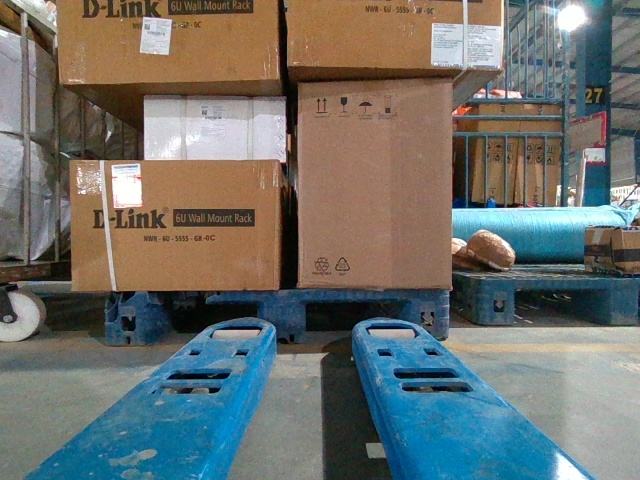block: (259, 292, 305, 349), (108, 289, 153, 346), (409, 289, 449, 341), (479, 274, 516, 326), (612, 279, 639, 326)
front: (109, 290, 448, 342)
hole pallet: (299, 295, 411, 345), (145, 297, 265, 341), (515, 289, 612, 326)
